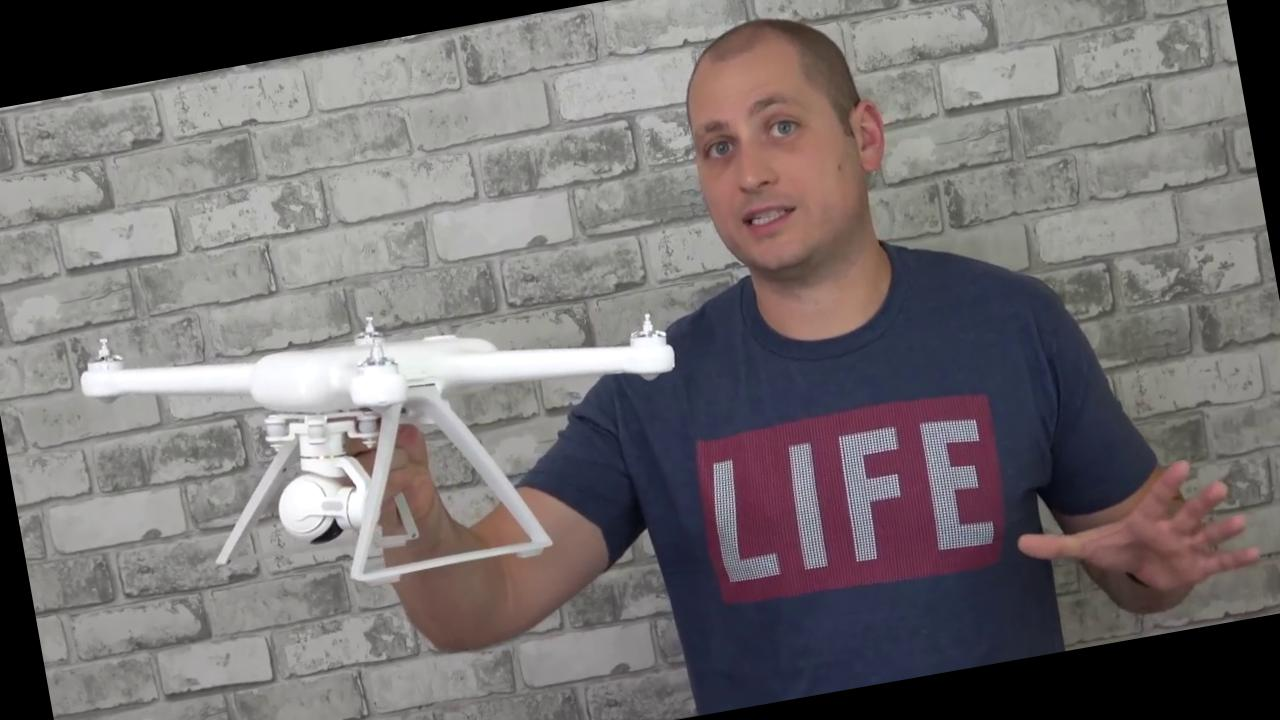drone: (54, 223, 690, 522)
